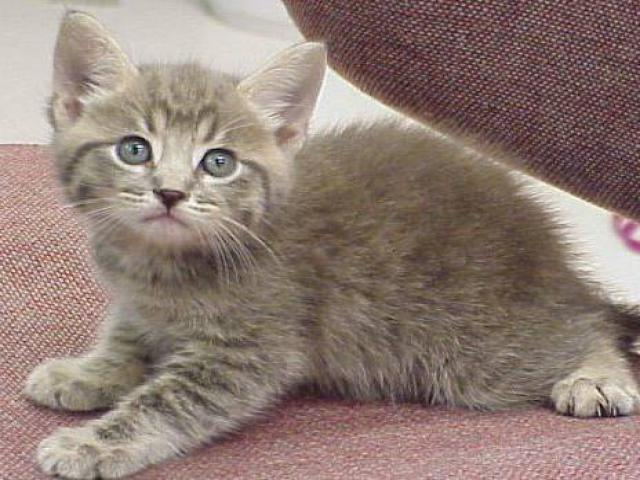cat: (24, 11, 640, 477)
